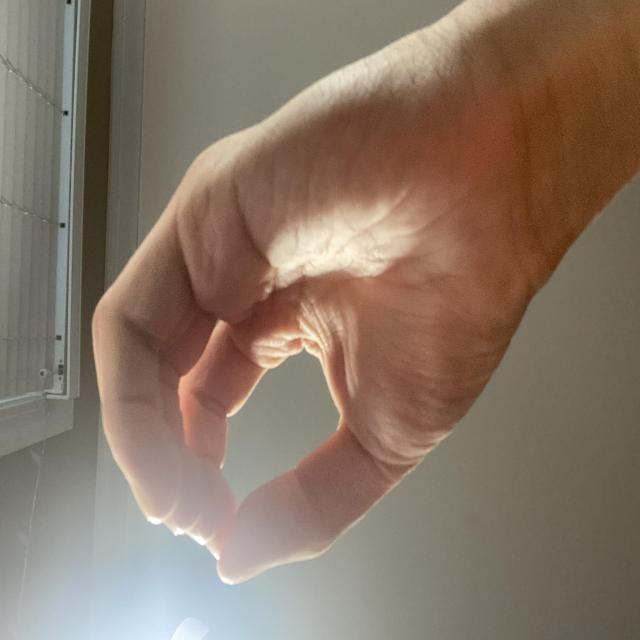O: (35, 114, 480, 640)
